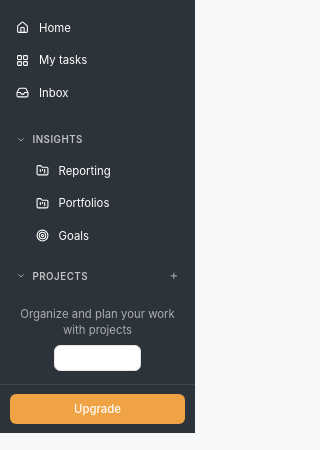
it: AsanaSidebar › renders insights section with collapsible toggle
Expected: the link with test id "nav-reporting" is shown, [36, 164, 111, 178]
Expected: the link with test id "nav-portfolios" is shown, [36, 196, 109, 210]
Click to collapse
Click the button with test id "insights-toggle".
click(98, 140)  # box [6, 127, 188, 153]
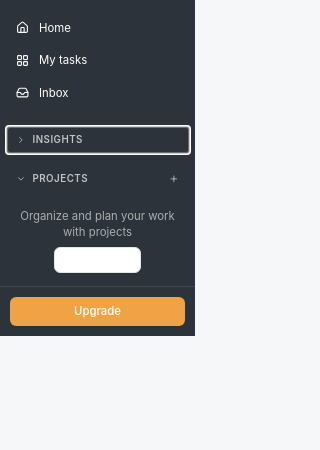
Result: the link with test id "nav-reporting" is gone
